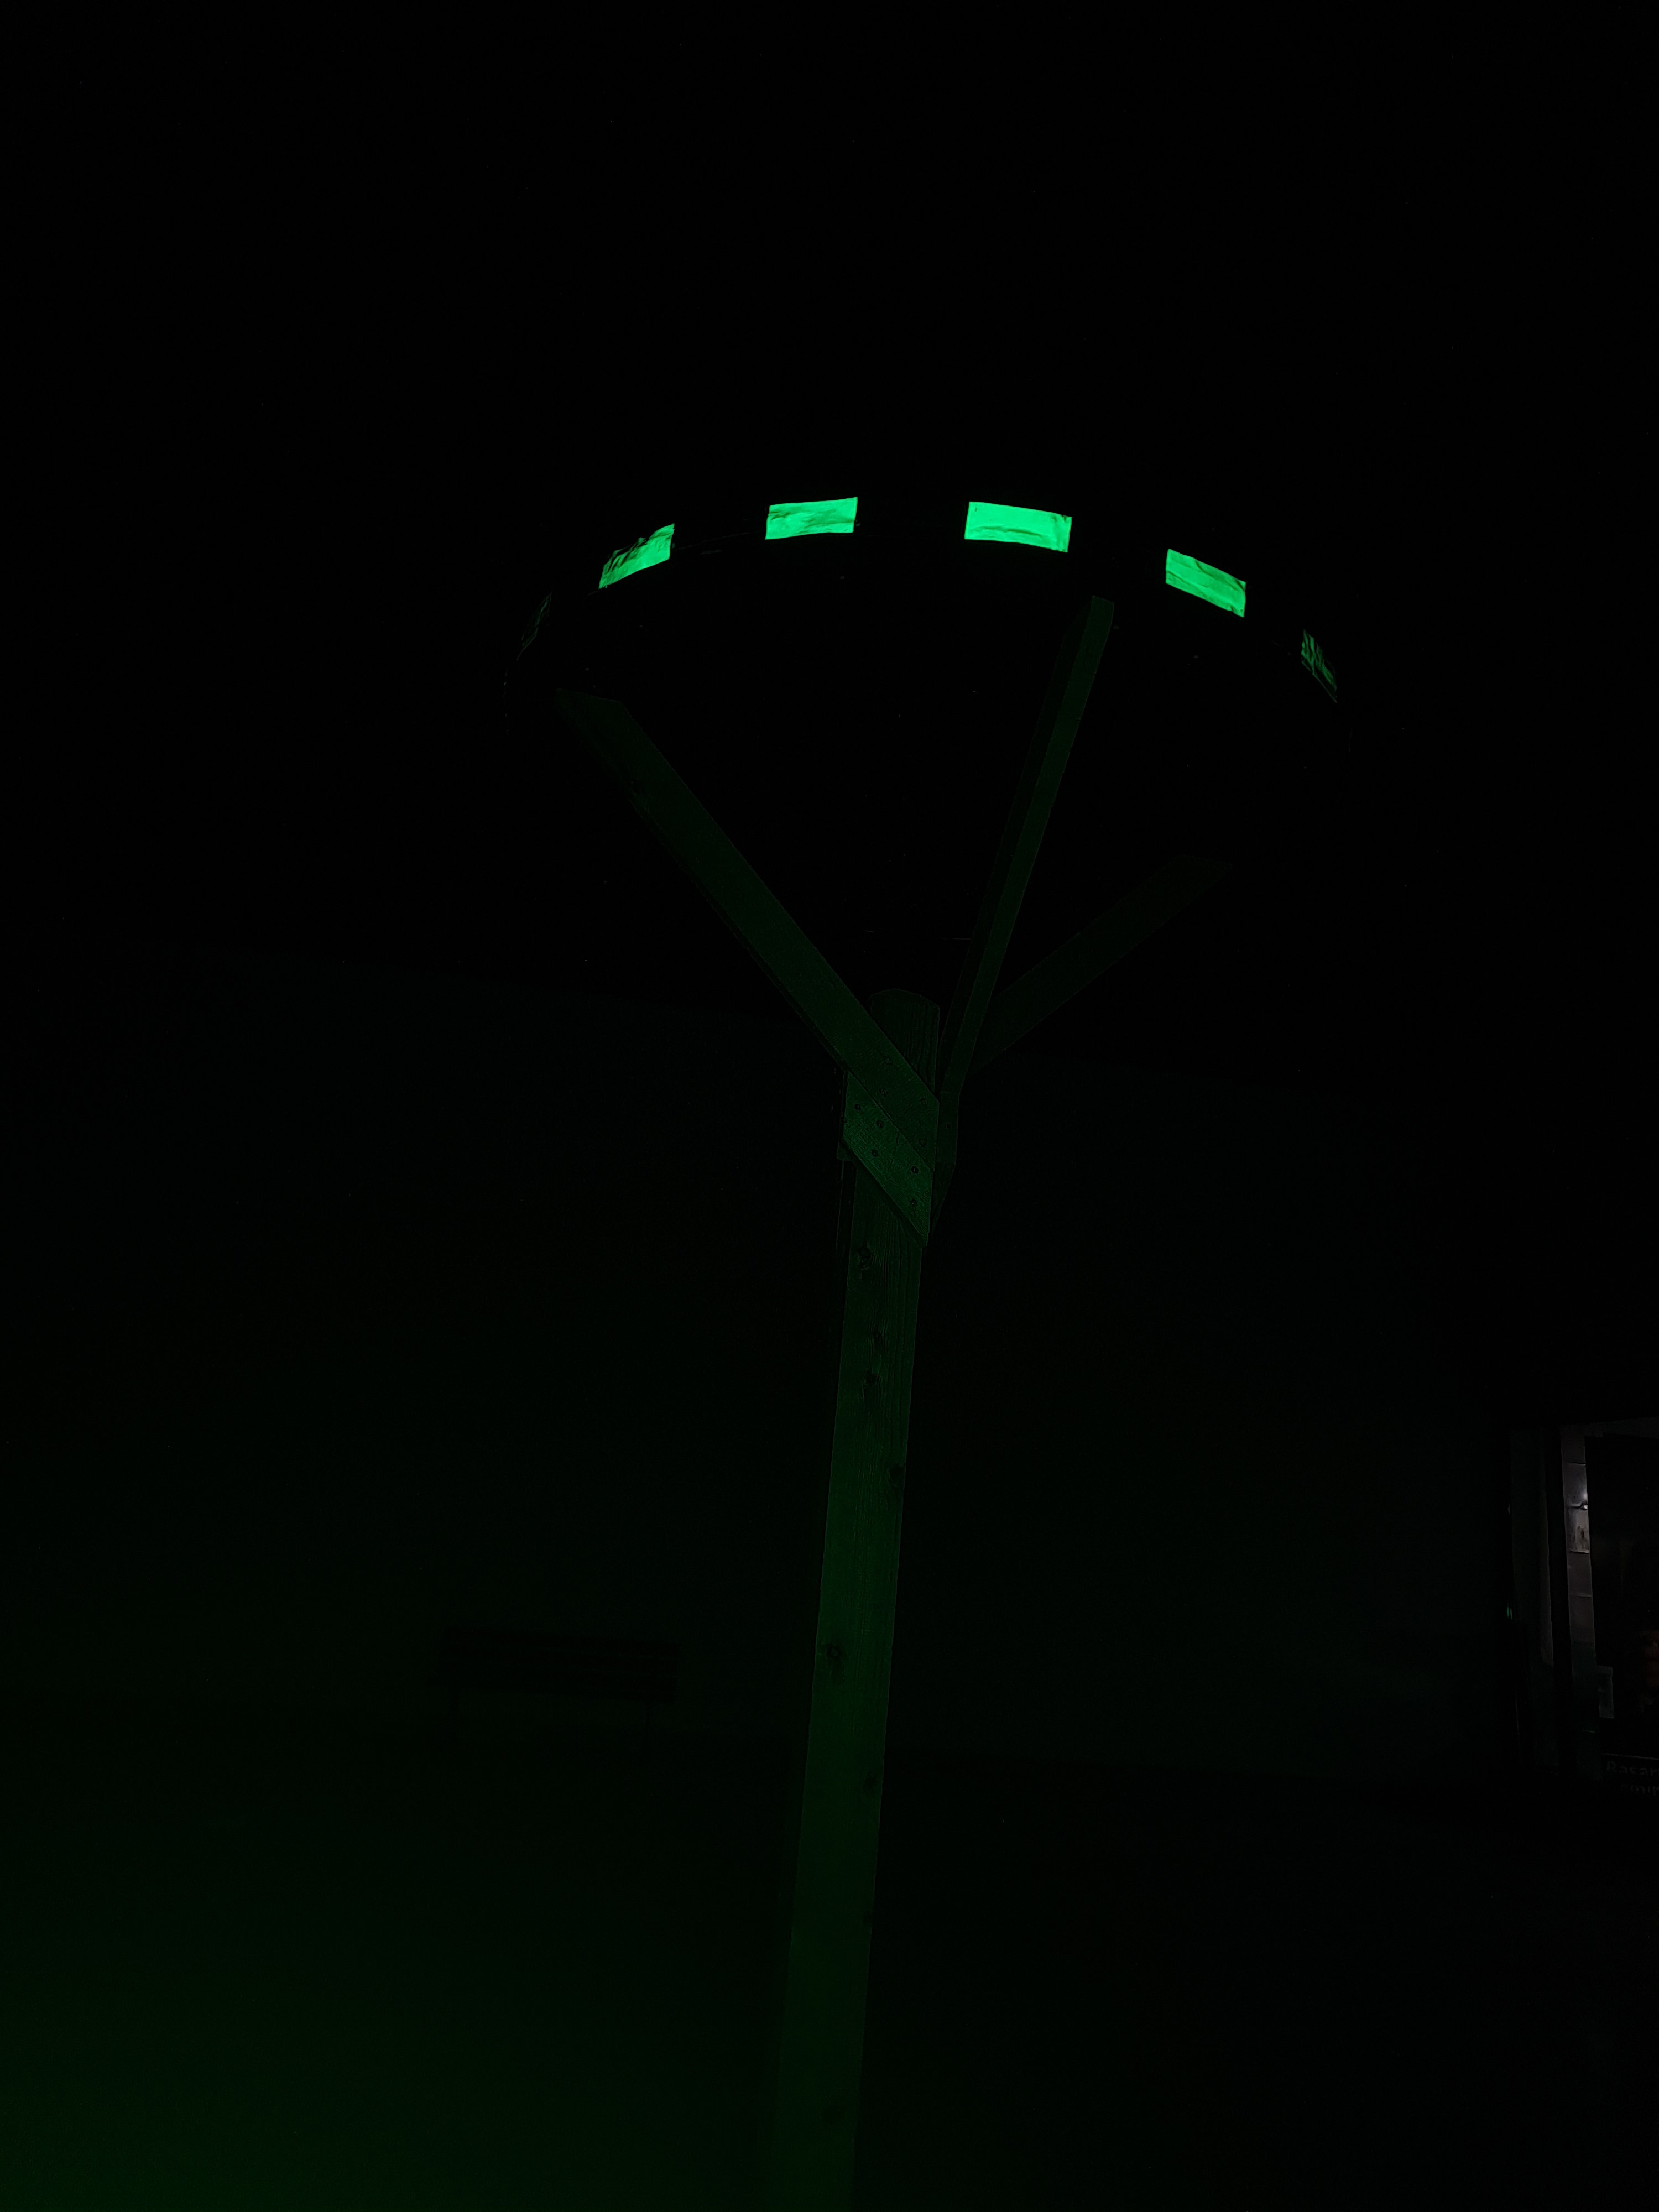hoop: (598, 491, 1338, 695)
